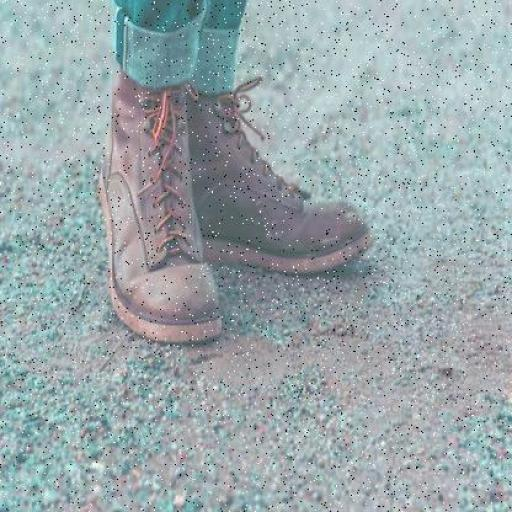safety_shoe: (89, 67, 226, 334), (194, 75, 368, 275)
